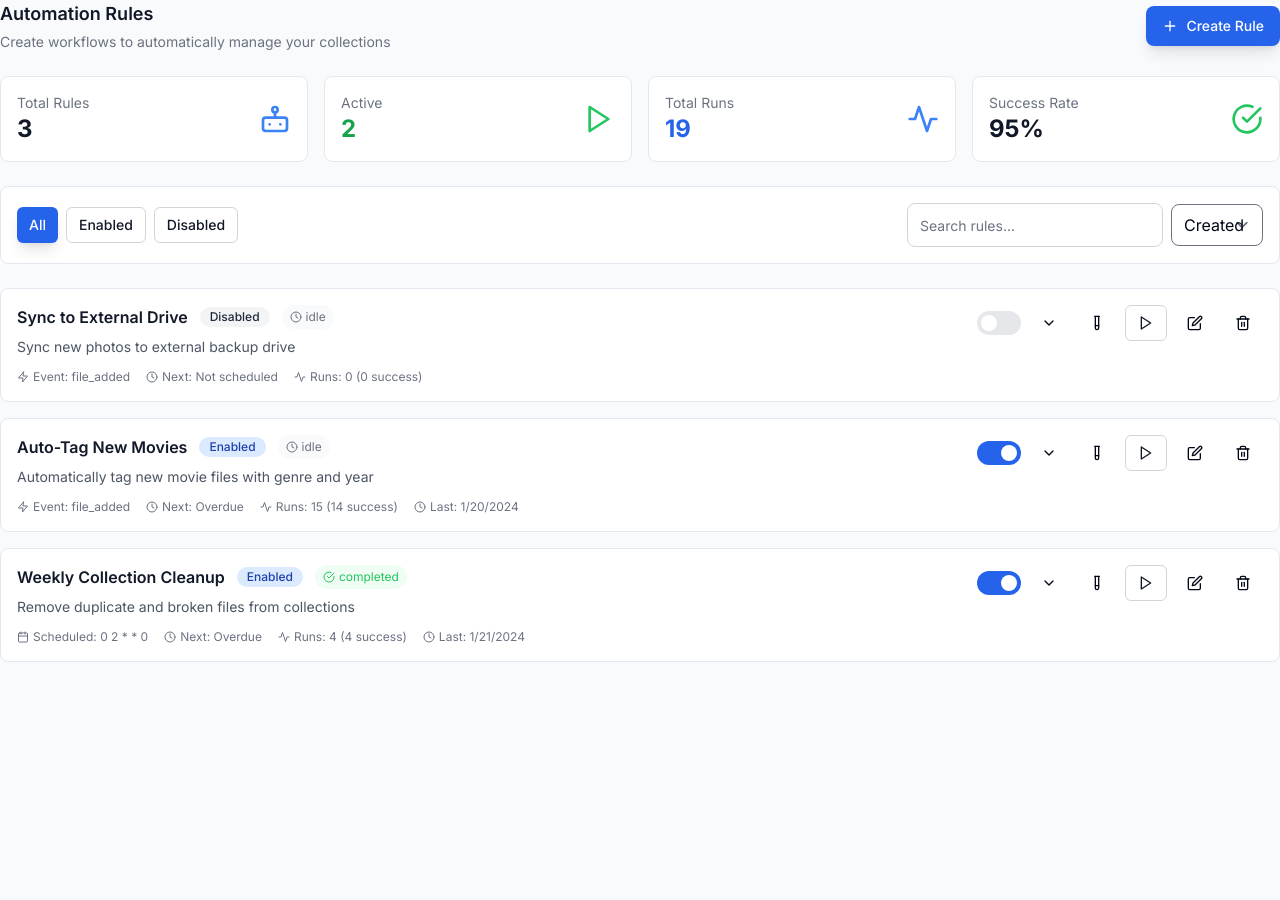
Test case: CollectionAutomation › opens create modal when Create Rule is clicked
Click the button "Create Rule". click: coordinates (1213, 26)
box: [1146,6,1279,46]
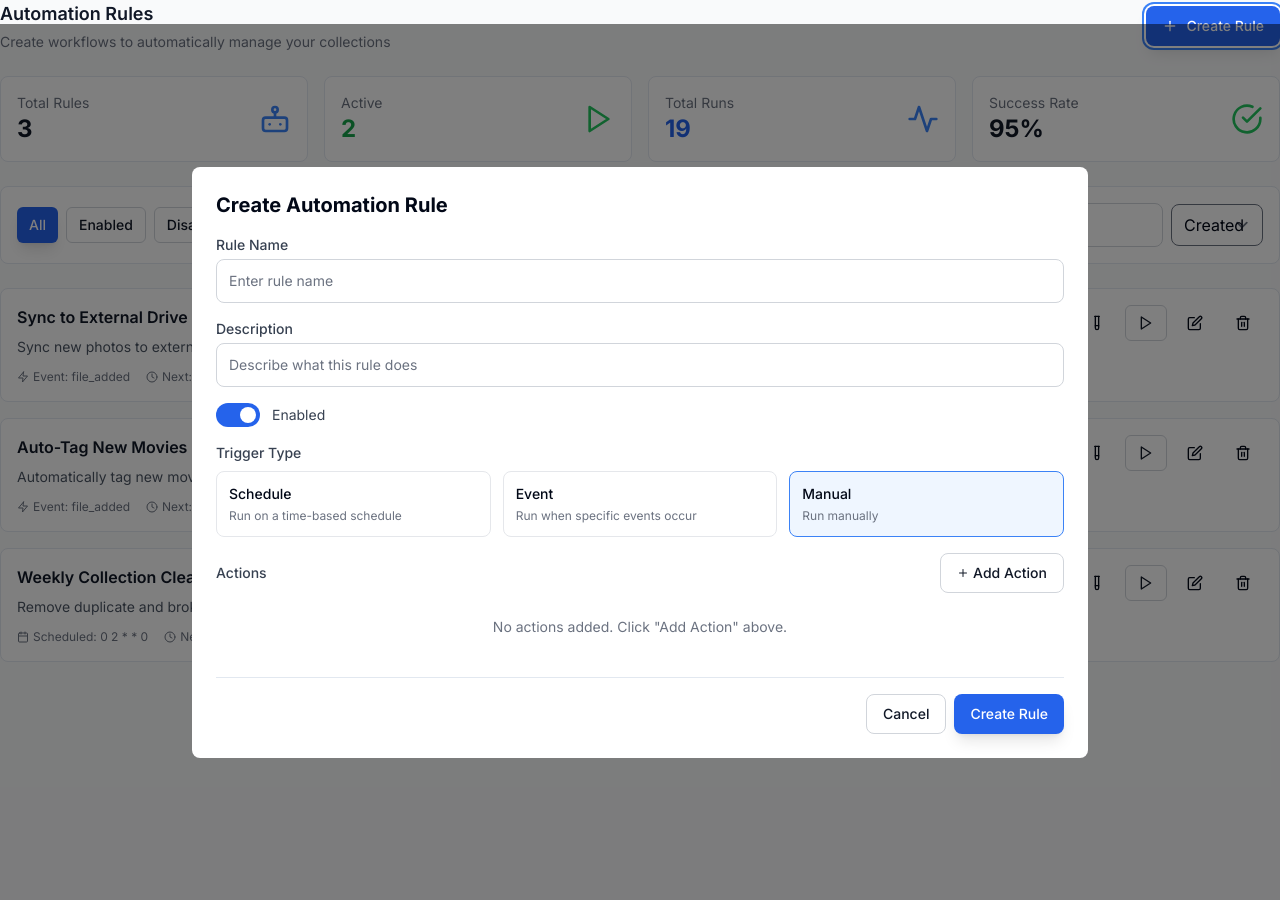
Check: the heading "Create Automation Rule" is shown, box [216,192,448,216]
